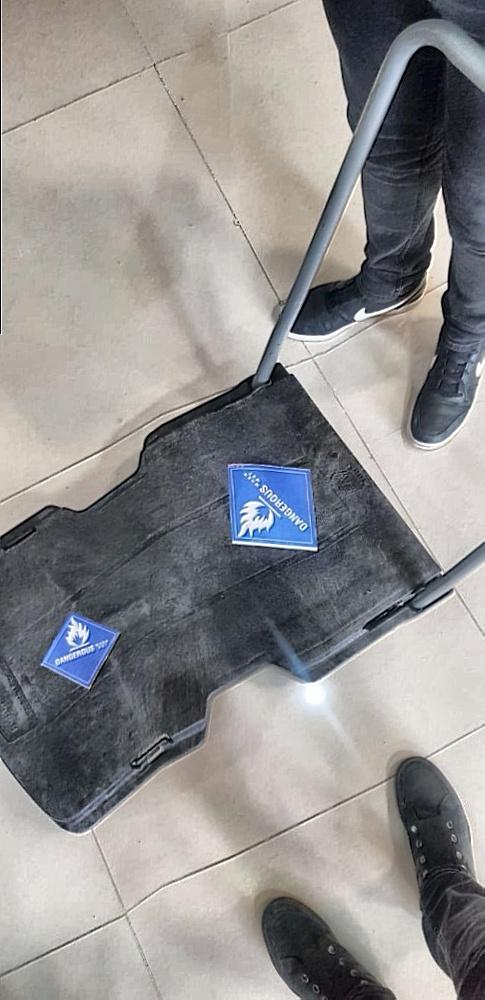dangerous-when-wet: (38, 605, 127, 700), (225, 464, 317, 555)
